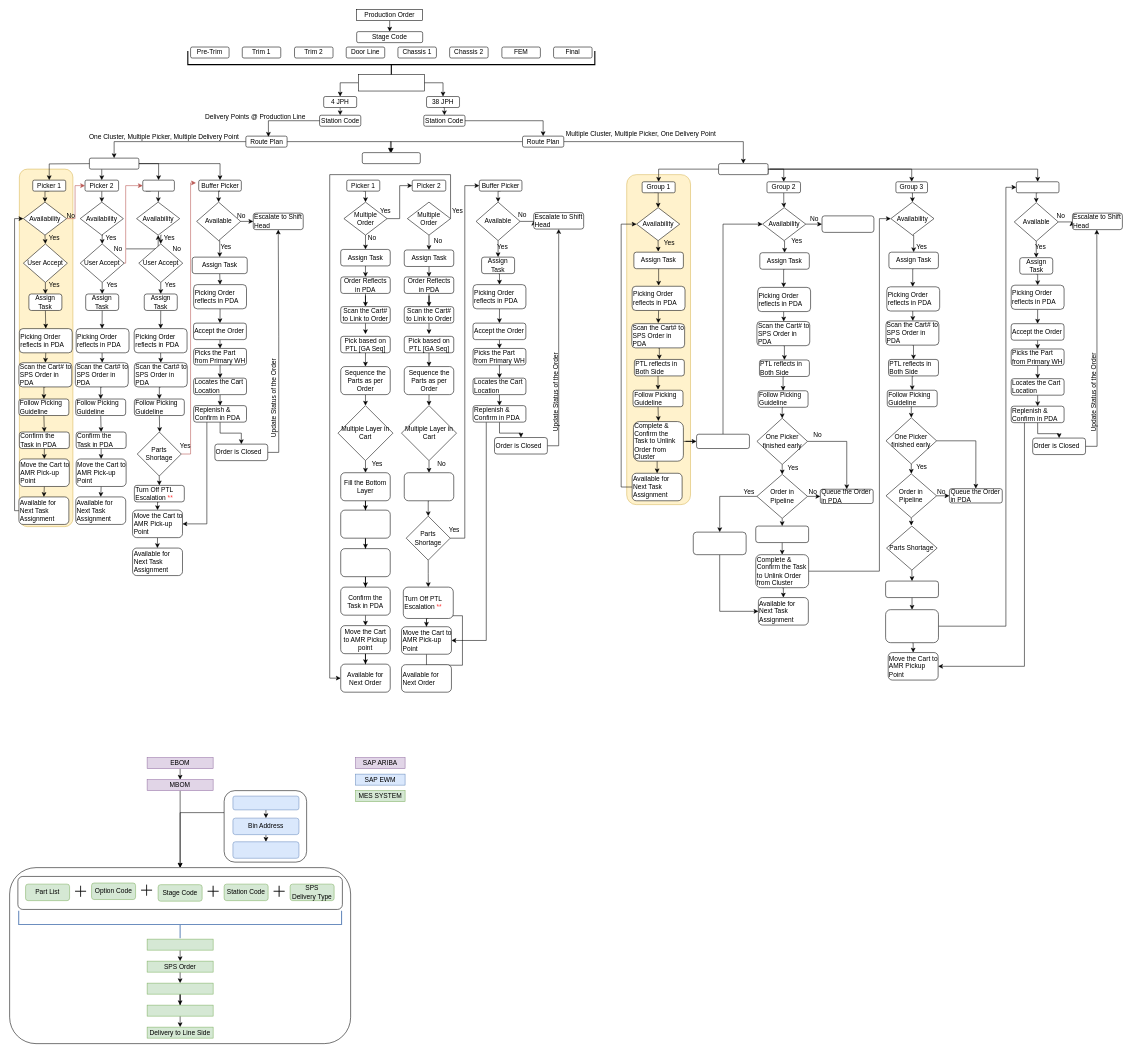
This 1132x1053 diagram has some shape labels left out. Each missing label, with the centre of its shape:
BIN Inventory: (x=265, y=803)
Both Picker Completed: (x=782, y=534)
Buffer Group: (x=1037, y=187)
Cluster Picking: (x=114, y=163)
Fill the Carts based on Seq number: (x=429, y=486)
Fill the Middle Layer: (x=365, y=524)
Fill the Top Layer: (x=365, y=562)
Internal Sequence: (x=391, y=158)
Order Move to Next Cluster: (x=722, y=441)
Picker 3: (x=158, y=185)
Picking based on PTL: (x=180, y=1010)
Production Rate: (x=391, y=82)
Production Volume: (x=180, y=944)
Queue the Order: (x=847, y=223)
Replenishment from Primary Warehouse: (x=265, y=849)
Scan the Cart# to link the SPS order: (x=719, y=543)
Station Picking: (x=743, y=169)
Task Assignment: (x=180, y=988)
Turn Off the PTL: (x=911, y=589)
Update the PDA to Unlink Order from Cluster: (x=911, y=626)
